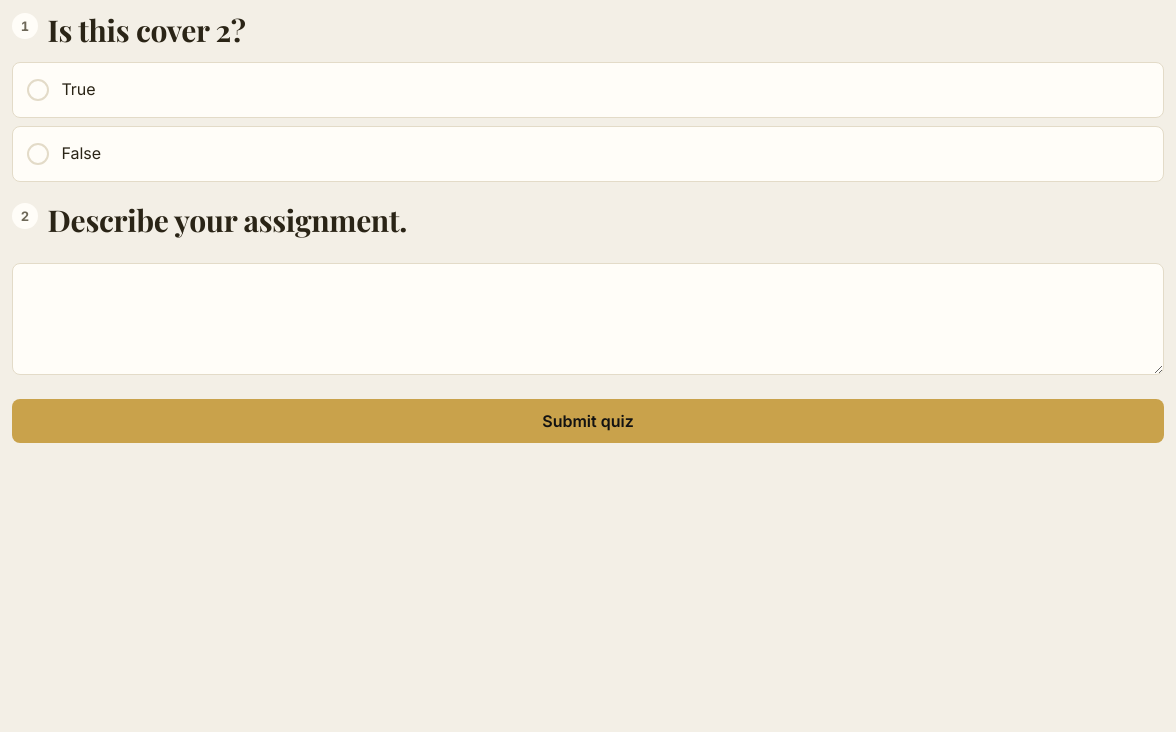
Scenario: QuizStep › require_all_answers › blocks submission and shows a message when a question is left blank
Click the radio button labelled "True": (38, 90) [27,79,49,101]
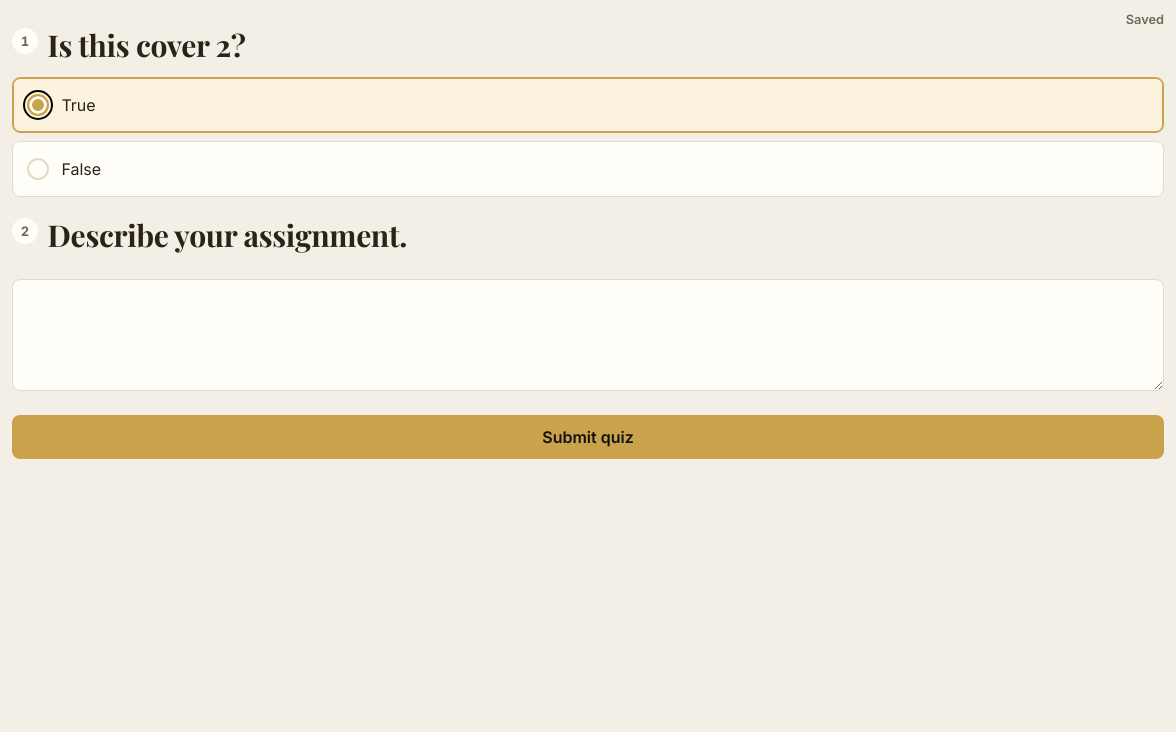
Click the button "Submit quiz": (588, 436) [12,414,1164,458]
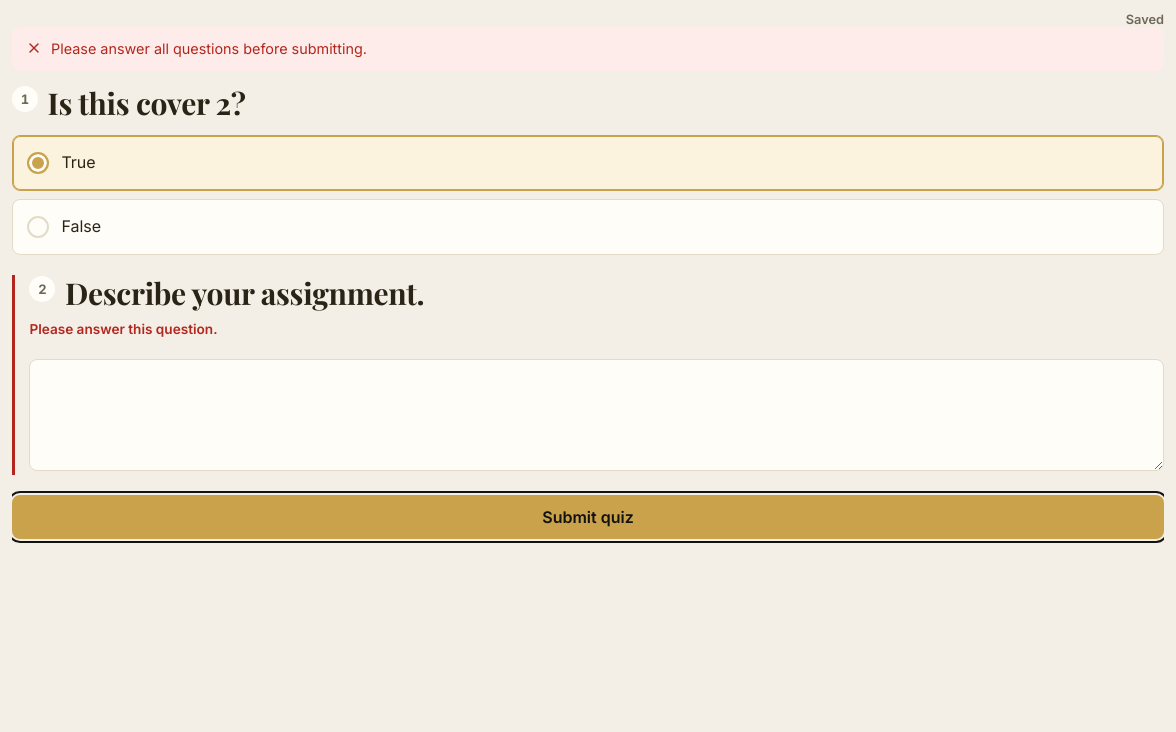
Result: the radio button labelled "True" is checked at [27,152,49,174]
Result: the text "Please answer all questions before submitting." is shown at [51,38,367,60]
